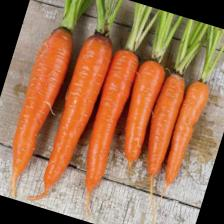carrot: (0, 20, 78, 201), (36, 27, 118, 198), (70, 45, 143, 198), (109, 56, 168, 168), (134, 68, 190, 180), (158, 77, 213, 188)
